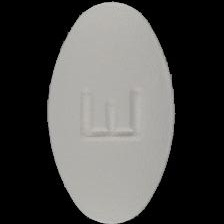63187-447: (0, 0, 224, 224)
